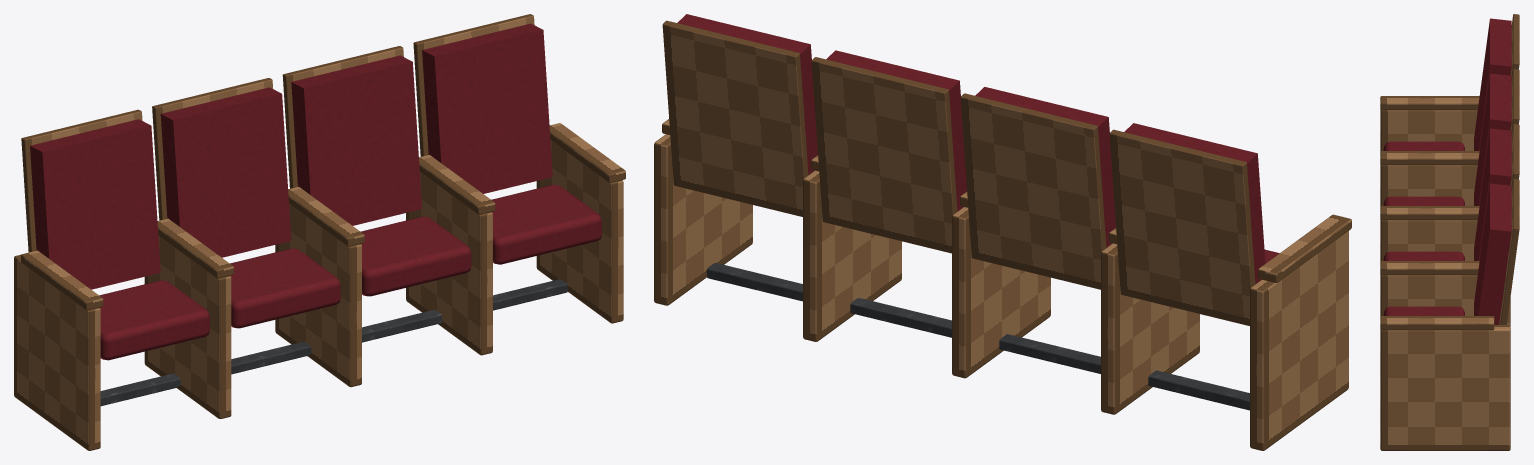
The model's file is theaterSeats.glb.
3 views of the same model, side by side, from view 1: azimuth 30°, elevation 25°; view 2: azimuth 150°, elevation 25°; view 3: azimuth 270°, elevation 25° (orthographic). The views are drawn at different scales.
Parts seen in each view (by area): view 1: theaterSeats, dyn_wood_variant; view 2: dyn_wood_variant, theaterSeats; view 3: dyn_wood_variant, theaterSeats.
Boxes of the visible parts, x1,y1,x2,y2 form: theaterSeats: (30, 23, 601, 406); dyn_wood_variant: (14, 14, 625, 450); dyn_wood_variant: (654, 20, 1351, 450); theaterSeats: (677, 14, 1279, 410); dyn_wood_variant: (1380, 14, 1519, 450); theaterSeats: (1383, 18, 1511, 324).
Size of the model in its own units: 2.48 by 1.11 by 0.6418.
3 materials, 3 textured.
